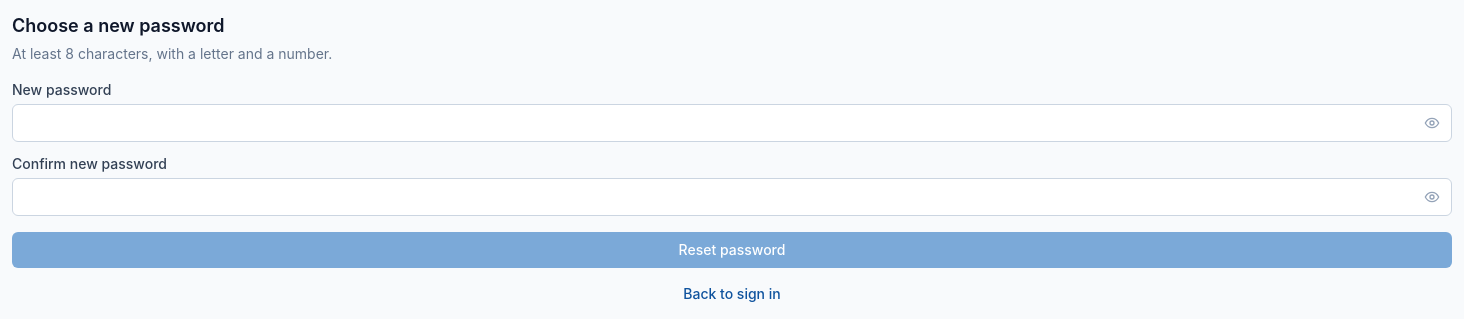
it: ADR-058 — Reset password › a link that turns out to be spent on submit switches to the invalid-link view
In the password field labelled "New password": (732, 123) [12,104,1452,142], type "GoodPass123"
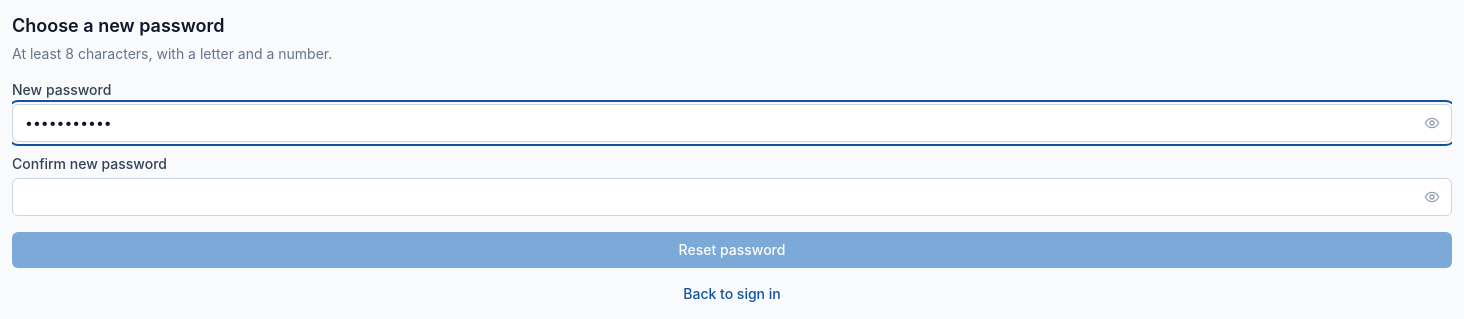
In the password field labelled "Confirm new password": (732, 197) [12,178,1452,216], type "GoodPass123"
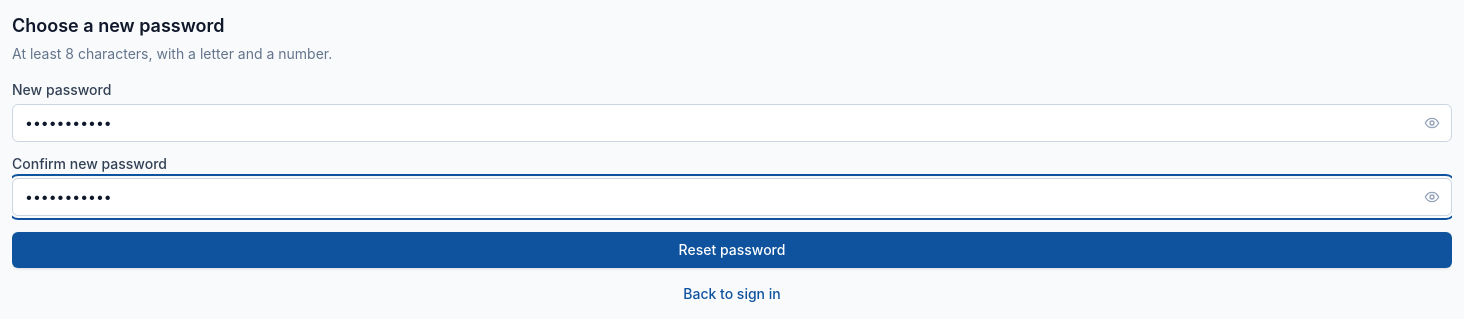
Click the button "Reset password": click(732, 250) [12,232,1452,268]
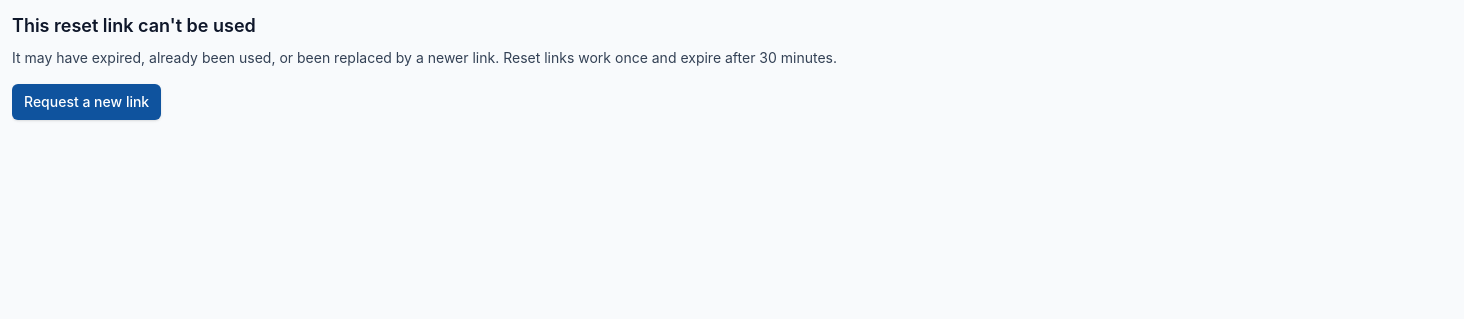
Now the link "Request a new link" is shown, box [12,84,161,120]
